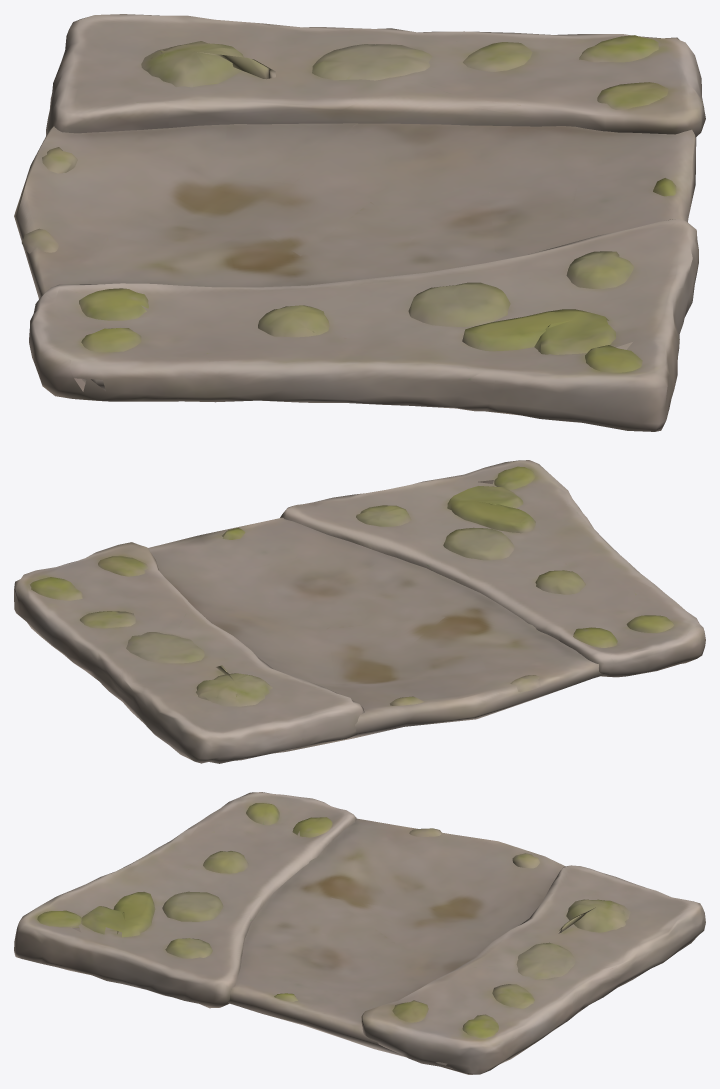
The model's file is huella_peldano.glb.
The picture shows the model from 3 angles, top to bottom: view 1: azimuth 30°, elevation 25°; view 2: azimuth 150°, elevation 25°; view 3: azimuth 270°, elevation 25°; orthographic projection. The views are drawn at different scales.
Visible parts, largest first — view 1: huella_peldano; view 2: huella_peldano; view 3: huella_peldano.
Part boxes in pixels (x1,y1,x2,y2): huella_peldano: (14, 14, 705, 431); huella_peldano: (14, 460, 705, 763); huella_peldano: (14, 792, 705, 1074).
Bounding box in the file's own units: 0.3163 × 0.0245 × 0.3574.
Materials: 1 (1 with a texture image).
